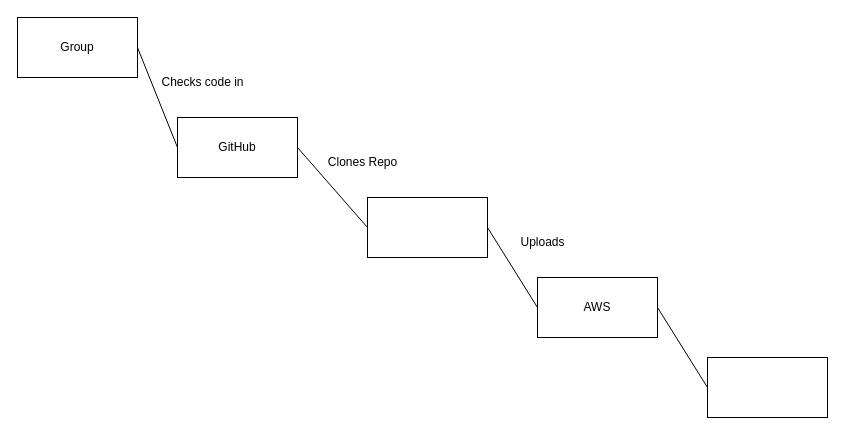
The diagram is 845 pixels wide and 435 high, and some of its shapes have lost their labels. The shapes that lost their labels are listed below. From the top down, each one's centre as x and y in pixels, then its label:
At point 427,227: "JavaFX".
At point 767,387: "Website".
